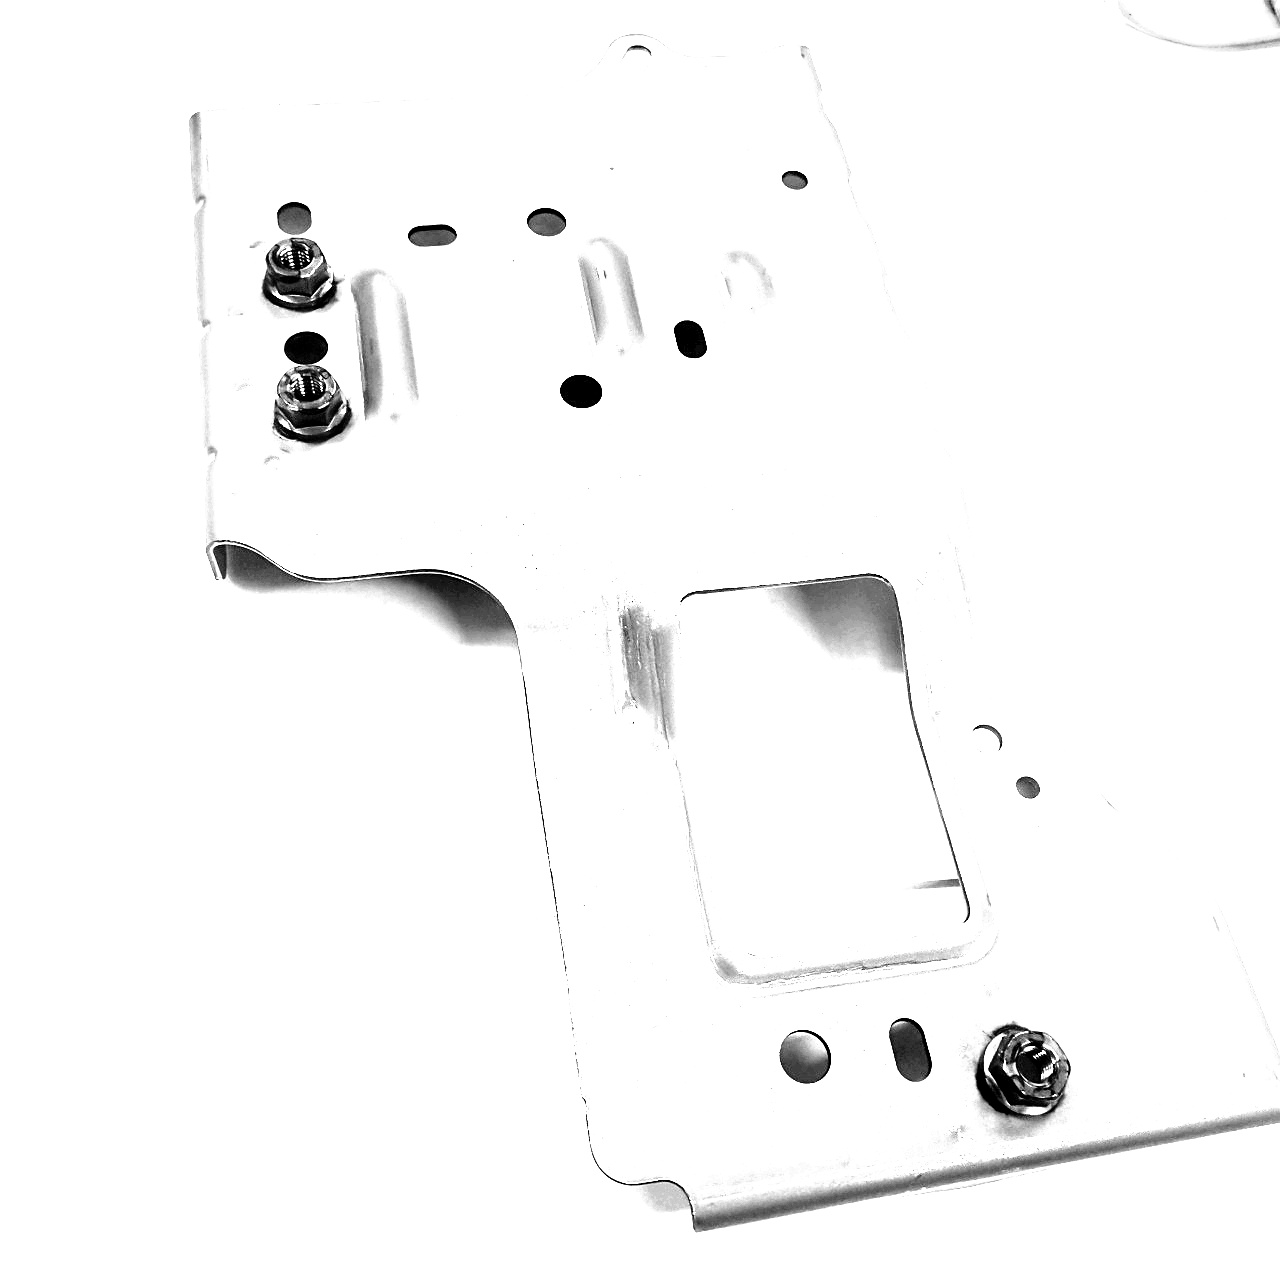dog: (968, 1020, 1074, 1126), (270, 358, 354, 450), (258, 234, 342, 316)
